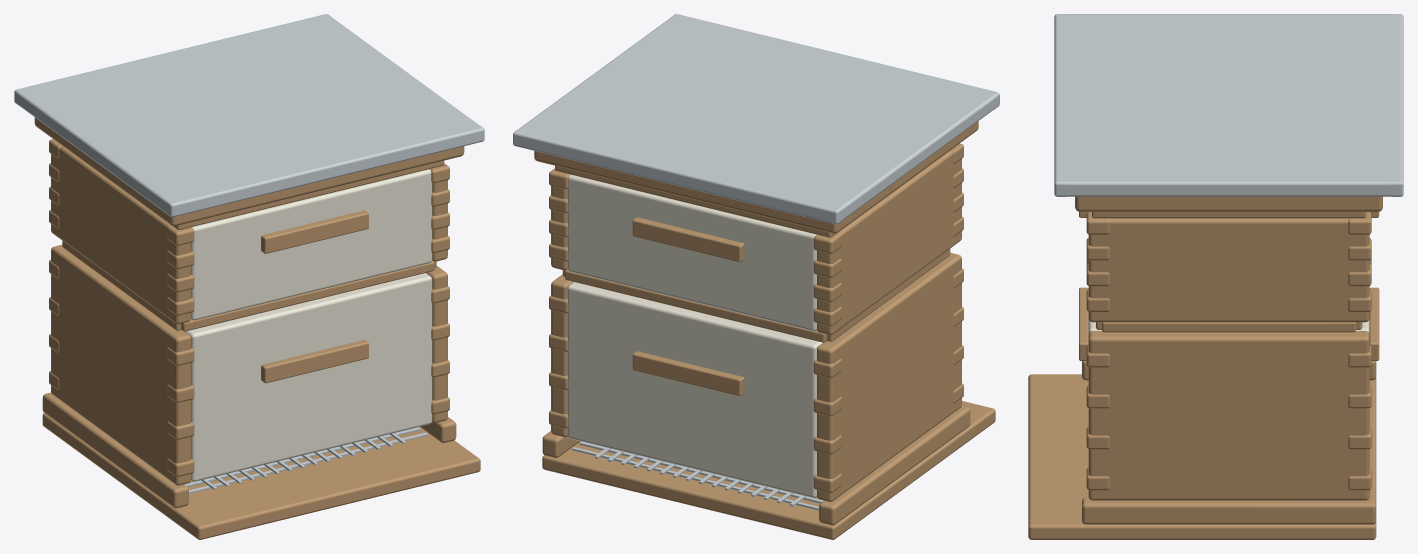
The model's file is beekeeping-and-honey-farm-complete-framed-hive-b6dc9908__30698.glb.
The picture shows the model from 3 angles, left to right: view 1: azimuth 30°, elevation 25°; view 2: azimuth 150°, elevation 25°; view 3: azimuth 270°, elevation 25°; orthographic projection. The views are drawn at different scales.
Visible parts, largest first — view 1: complete-framed-hive; view 2: complete-framed-hive; view 3: complete-framed-hive.
Part boxes in pixels (<box>): complete-framed-hive: <box>14,14,484,539</box>; complete-framed-hive: <box>513,14,999,539</box>; complete-framed-hive: <box>1028,14,1403,539</box>.
Size of the model in its own units: 0.6 by 0.605 by 0.561.
